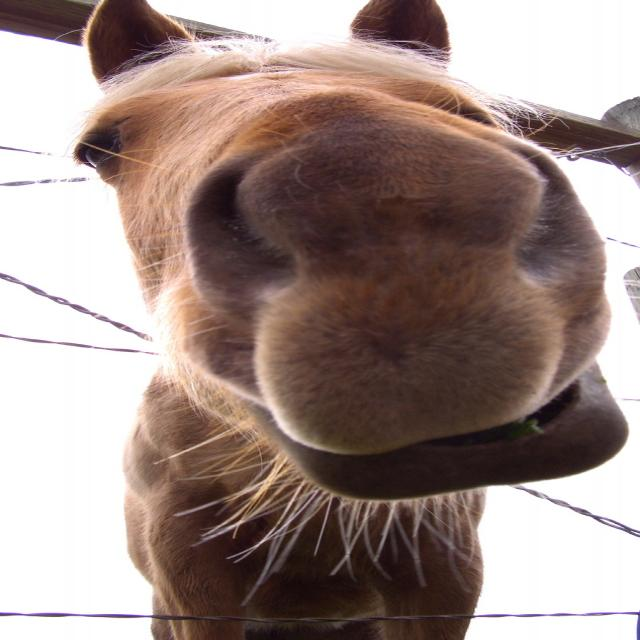Horse: (31, 0, 640, 640)
